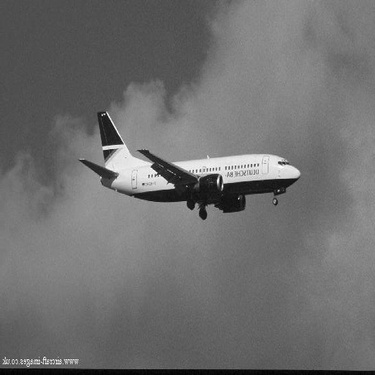airplane: (78, 105, 304, 225)
